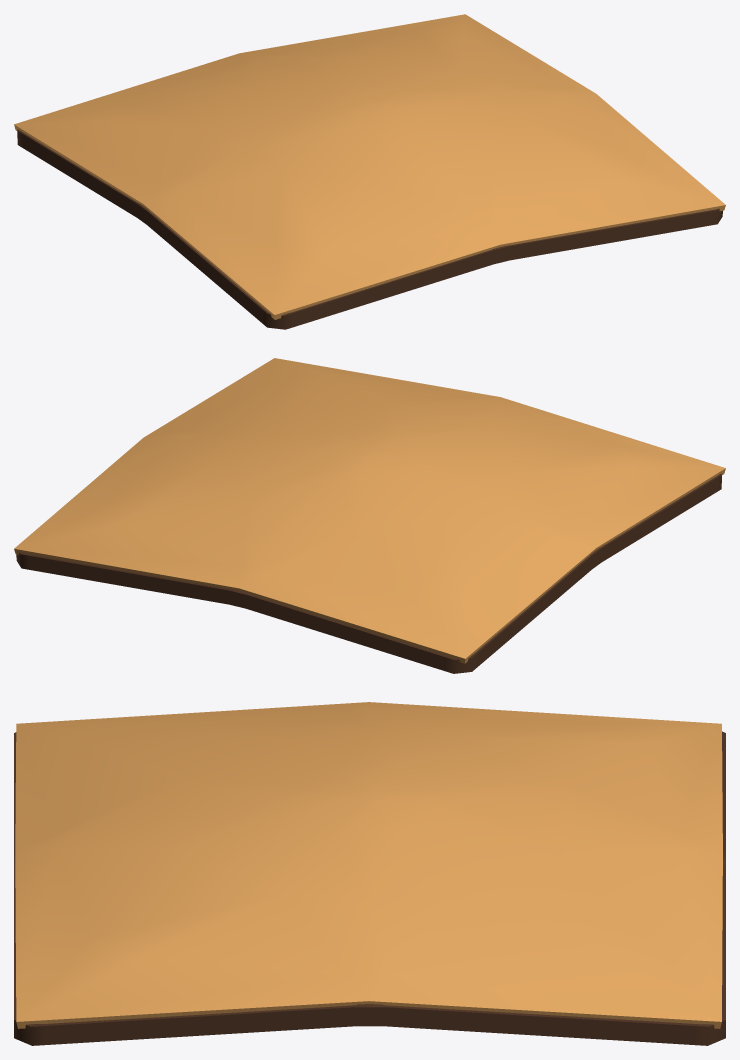
Rendered from ceiling.fbx.
3 views of the same model, one above another, from view 1: azimuth 30°, elevation 25°; view 2: azimuth 150°, elevation 25°; view 3: azimuth 270°, elevation 25° (orthographic). The views are drawn at different scales.
Parts seen in each view (by area): view 1: ceiling, ceiling_pattern; view 2: ceiling, ceiling_pattern; view 3: ceiling, ceiling_pattern.
Boxes of the visible parts, box(x1,y1,x2,y2) form: ceiling: box(14, 14, 725, 319); ceiling_pattern: box(17, 129, 722, 329); ceiling: box(14, 358, 725, 663); ceiling_pattern: box(16, 473, 721, 673); ceiling: box(15, 702, 722, 1028); ceiling_pattern: box(14, 731, 725, 1045).
Size of the model in its own units: 8.11 by 8.11 by 1.27.
